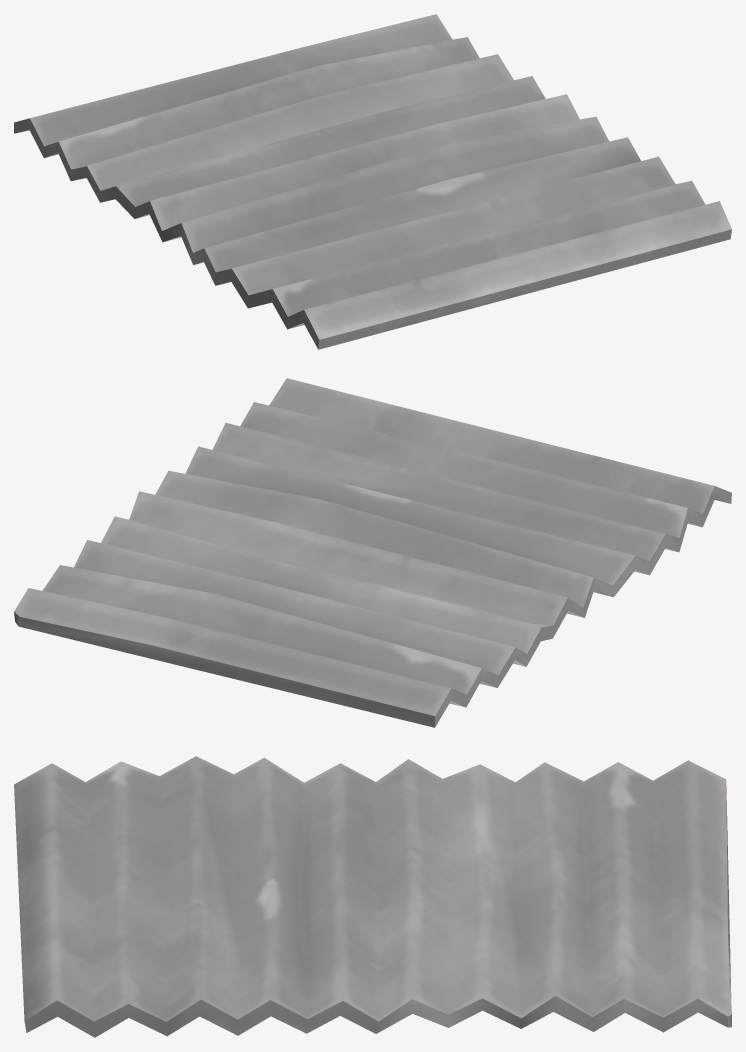
File: Pfb_MetalBoard__6.fbx
3 views of the same model, one above another, from view 1: azimuth 30°, elevation 25°; view 2: azimuth 150°, elevation 25°; view 3: azimuth 270°, elevation 25° (orthographic). The views are drawn at different scales.
Parts seen in each view (by area): view 1: Mat_MetalBoard_01_1; view 2: Mat_MetalBoard_01_1; view 3: Mat_MetalBoard_01_1.
Boxes of the visible parts, x1,y1,x2,y2 form: Mat_MetalBoard_01_1: (14,14,731,349); Mat_MetalBoard_01_1: (14,378,731,727); Mat_MetalBoard_01_1: (14,756,731,1037).
Bounding box in the file's own units: 1.71 × 0.1687 × 2.05.
1 material, 1 textured.
